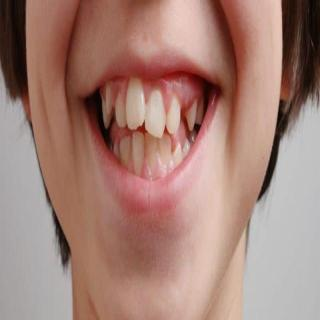Gum Swelling: (150, 79, 200, 107), (105, 77, 129, 105)
maligned: (124, 80, 147, 124), (147, 91, 167, 136), (102, 86, 115, 115), (172, 139, 184, 163)
